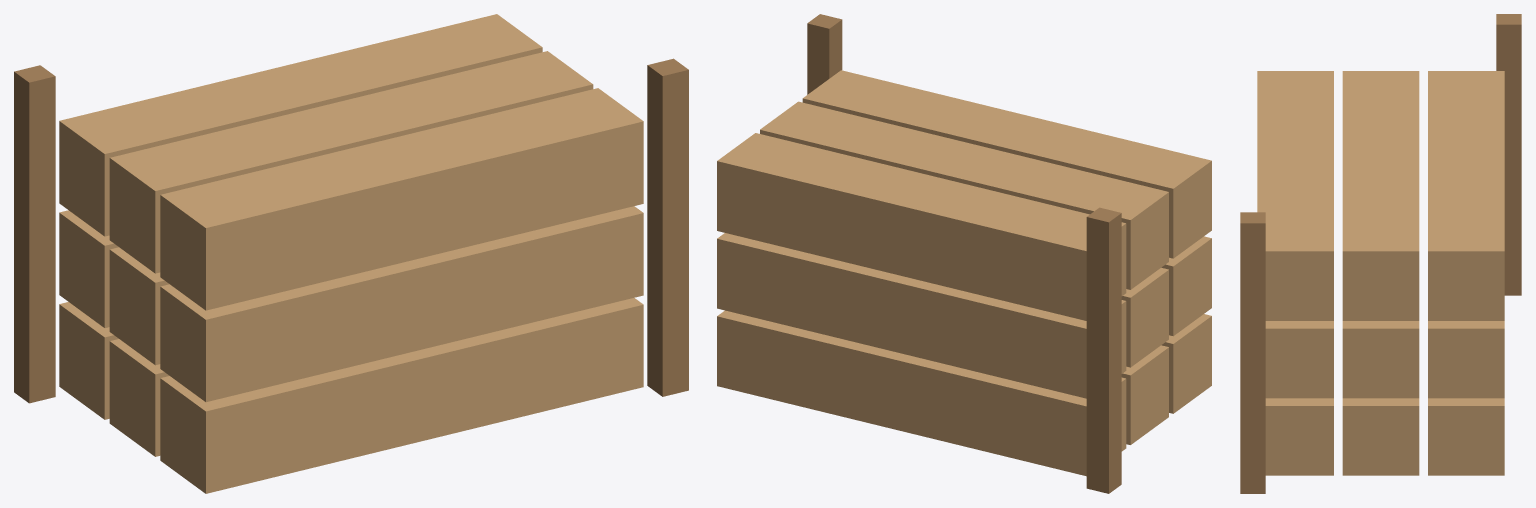
Rendered from timber-stockpile.glb.
3 renders of one model, left to right at view 1: azimuth 30°, elevation 25°; view 2: azimuth 150°, elevation 25°; view 3: azimuth 270°, elevation 25°, orthographic. The views are drawn at different scales.
Parts seen in each view (by area): view 1: timber-stockpile; view 2: timber-stockpile; view 3: timber-stockpile.
Boxes of the visible parts, x1,y1,x2,y2 form: timber-stockpile: [14, 14, 688, 493]; timber-stockpile: [717, 14, 1211, 493]; timber-stockpile: [1240, 14, 1521, 493].
Bounding box in the file's own units: 2.32 × 1.4 × 1.32.
